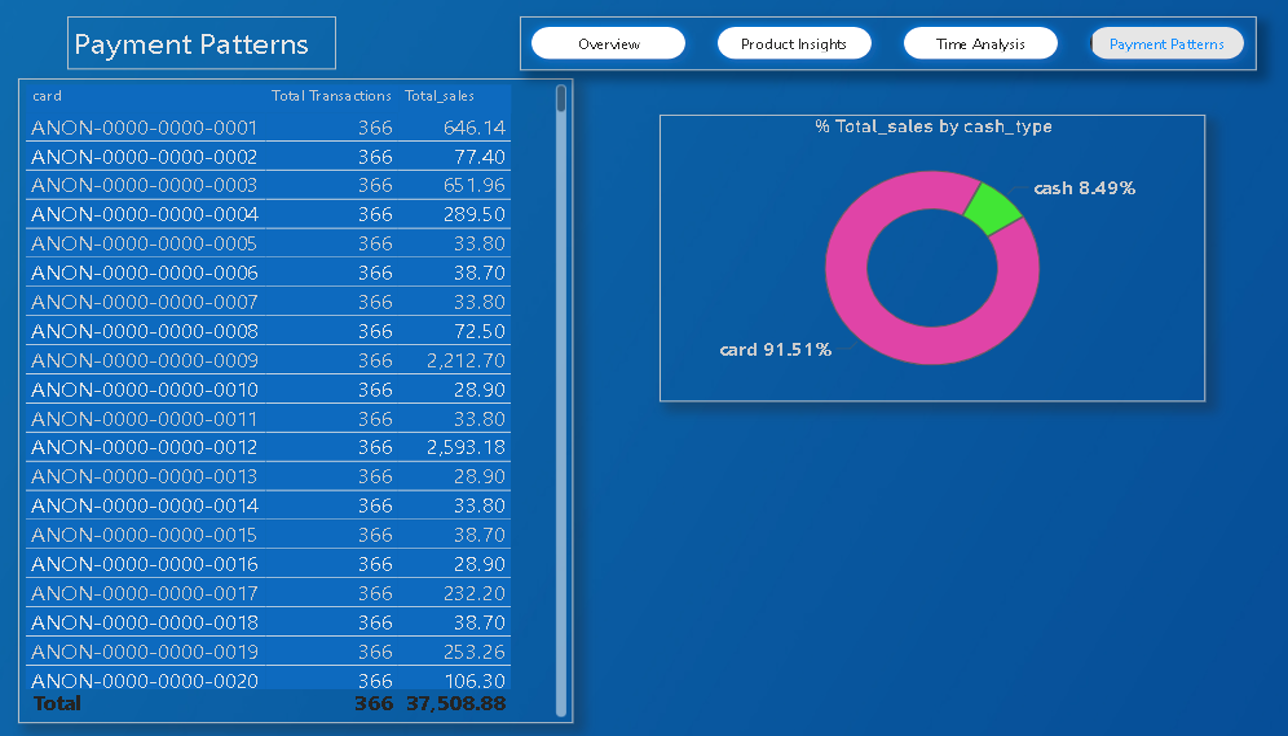

What the dashboard file says about the page in this screenshot:
{"tool":"powerbi","page":{"name":"Payment Patterns","canvas":[1280,720],"ordinal":3},"visuals":[{"type":"tableEx","fields":{"Values":["Coffee sales.card","Measure.Total Transactions","Measure.Total_sales"]},"box":[16.9,84.4,482.6,619.9],"z":0},{"type":"donutChart","title":"% Total_sales by cash_type","fields":{"Category":["Coffee sales.cash_type"],"Y":["Measure.Total_sales"]},"box":[574.9,119.2,474.8,275.6],"z":1000},{"type":"textbox","box":[60,25,233.8,51.2],"z":2000},{"type":"pageNavigator","box":[453.4,24.8,641.2,51.8],"z":2001}]}

Visuals, with their boxes in screenshot pixels (x1, y1, x2, y2), scaled from the page's 1280x720 canvas onto the 1288x736 screenshot:
tableEx - Coffee sales.card x Measure.Total Transactions: [left=17, top=86, right=503, bottom=720]
"% Total_sales by cash_type" donutChart: [left=578, top=122, right=1056, bottom=404]
textbox: [left=60, top=26, right=296, bottom=78]
pageNavigator: [left=456, top=25, right=1101, bottom=78]
